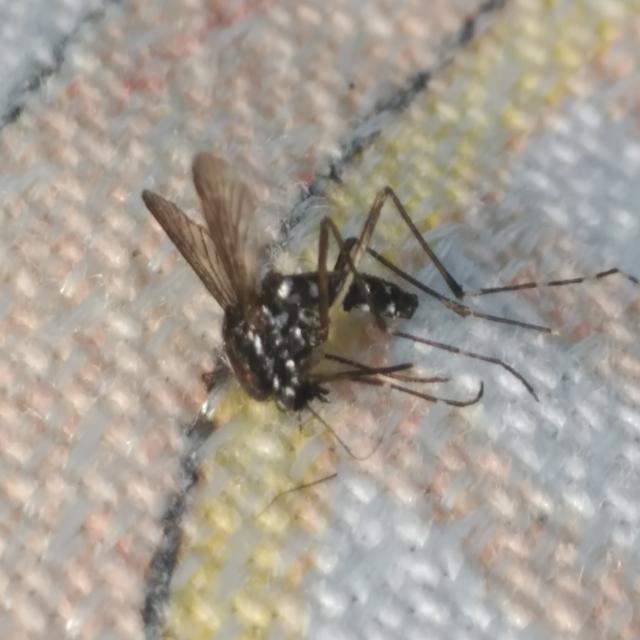albopictus: (131, 73, 635, 511)
